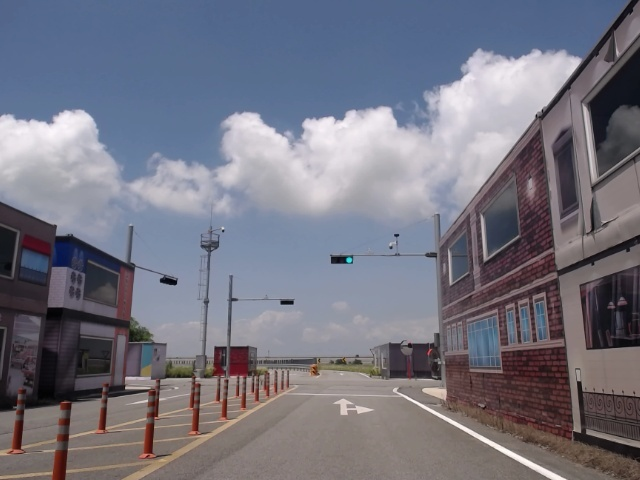green_3: (331, 257, 353, 263)
